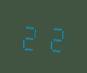two: (19, 18, 42, 52), (43, 20, 66, 54)
